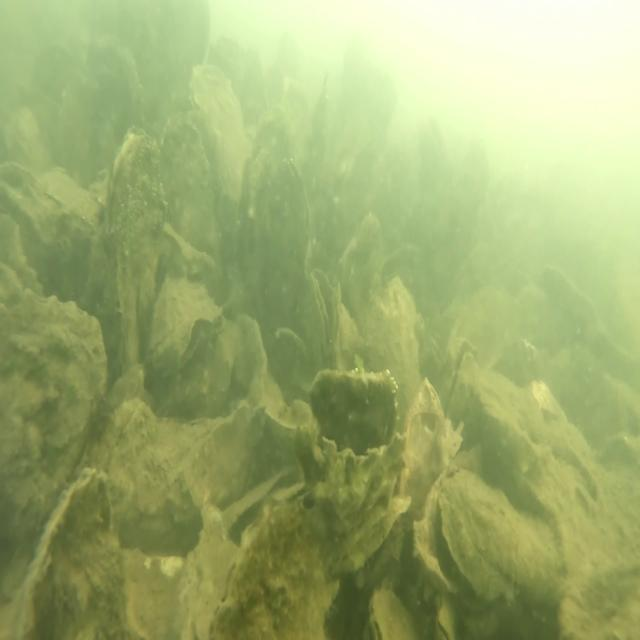Oyster-Closed: (0, 284, 107, 570), (208, 498, 342, 640), (105, 126, 163, 374), (103, 394, 192, 542)
Oyster-Indeterminate: (16, 468, 132, 640), (238, 116, 309, 331), (0, 159, 94, 299), (158, 106, 218, 264), (174, 500, 241, 640), (360, 276, 420, 413), (406, 378, 449, 507)
Oyster-Open: (294, 368, 408, 559), (414, 466, 561, 608), (147, 276, 225, 381), (307, 266, 341, 366), (443, 336, 478, 430), (366, 586, 416, 640), (432, 594, 458, 640)
